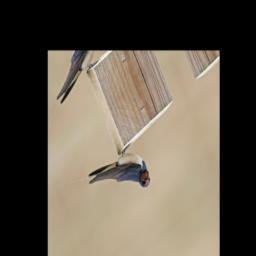Swallow: (68, 124, 154, 243)
